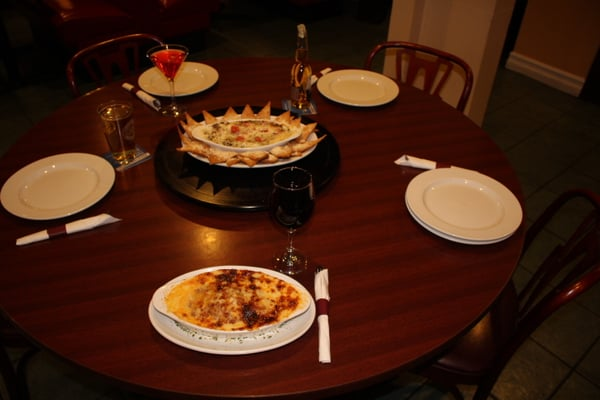sandwich: (15, 213, 122, 245), (315, 267, 332, 364)
